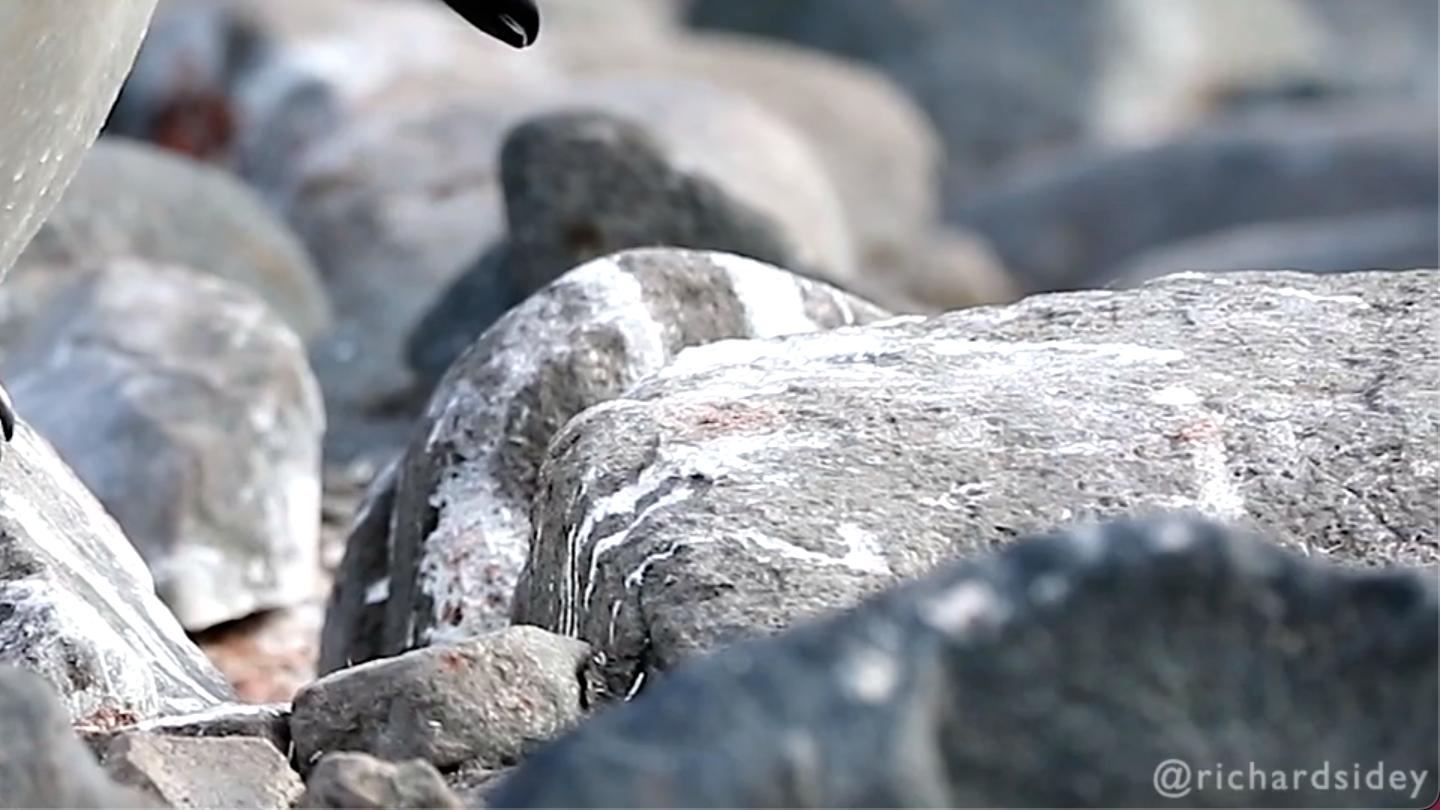Chinstrap Penguin: (0, 0, 551, 695)
